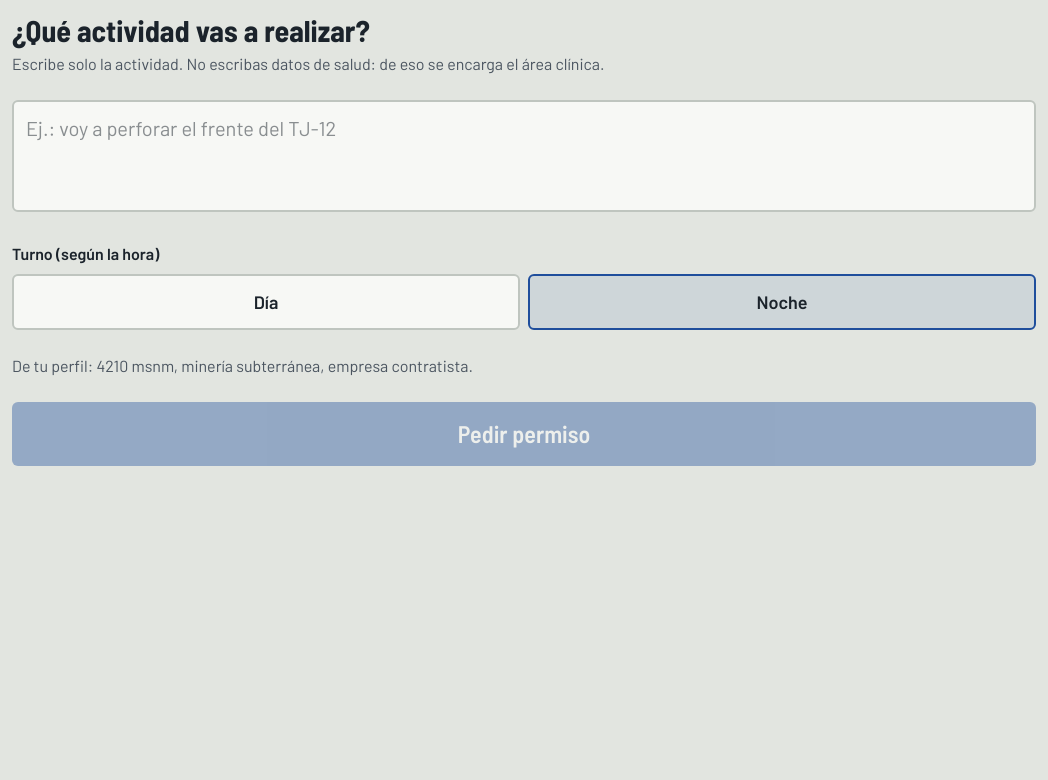
Test: pedido de actividad en texto libre › después de tocar otra actividad se puede volver a la que propuso Vigía
Type "voy a perforar el frente del TJ-12" into the text box labelled "¿Qué actividad vas a realizar?" at (524, 156), box [12,100,1036,212]
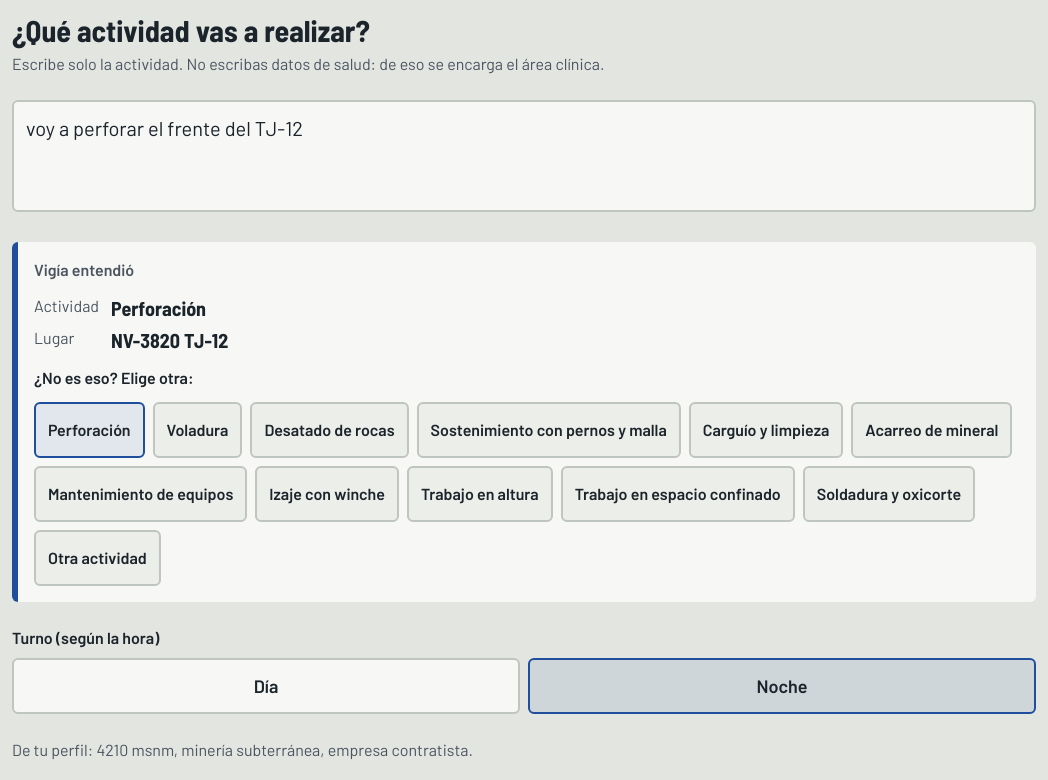
Result: the text "Vigía entendió" is shown at [34,260,134,279]
Click the button "Voladura" at (198, 430), box [153,402,242,458]
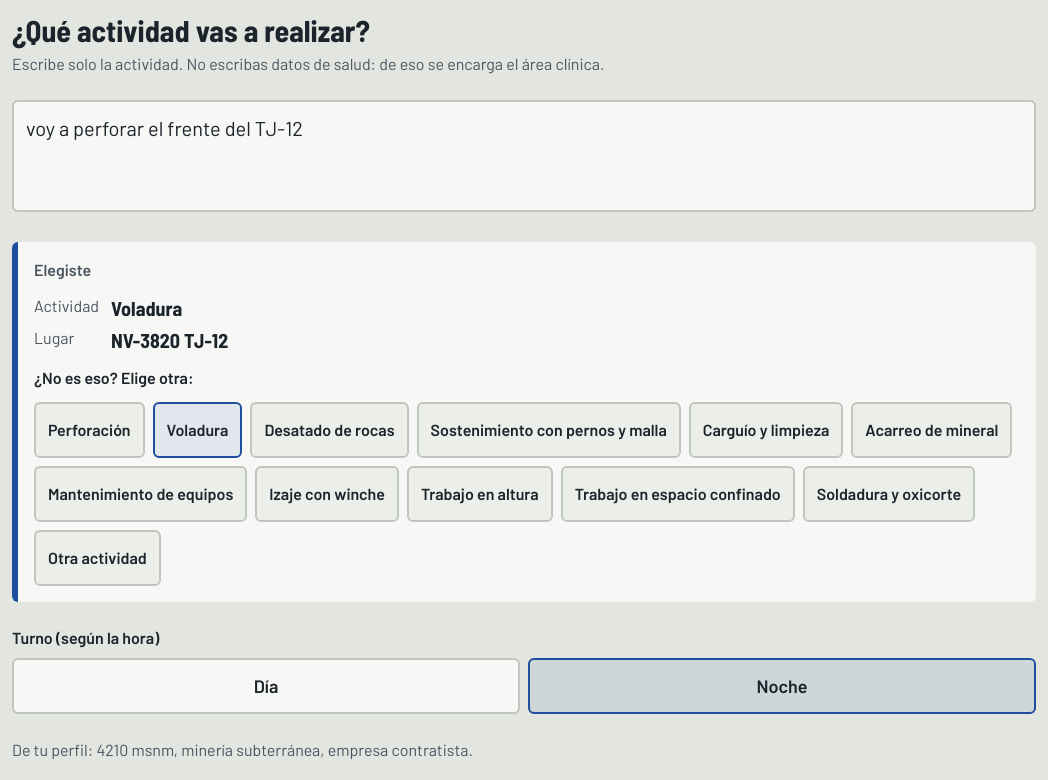
Result: the text "Elegiste" is shown at [34,260,91,279]
Click the button "Perforación" at (89, 430), box [34,402,145,458]
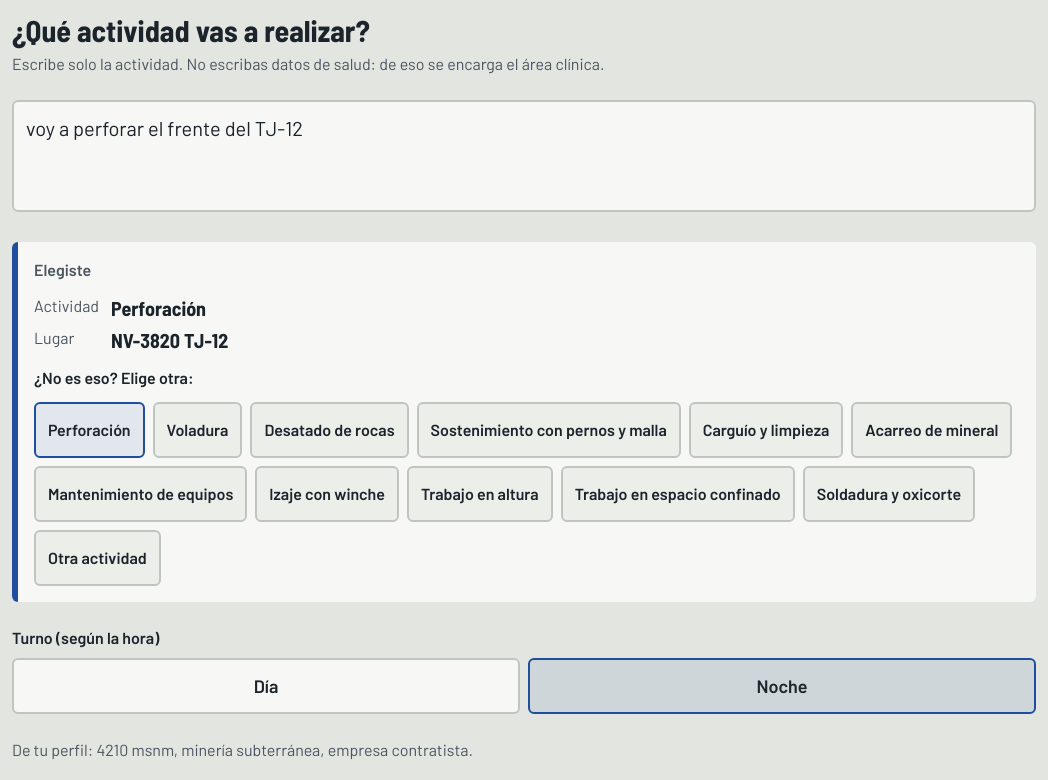
Result: the text "Perforación" is shown at [111,296,206,320]
